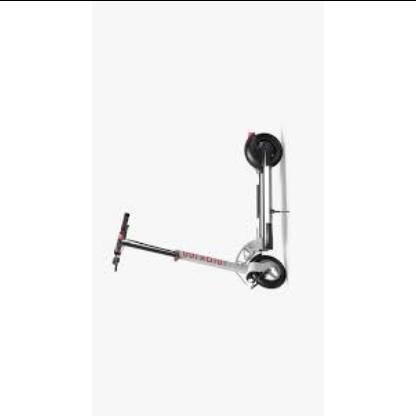bike: (112, 131, 289, 291)
